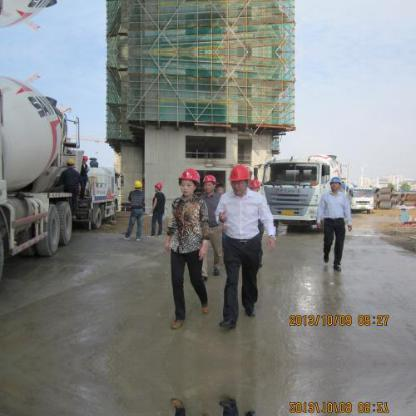helmet: (226, 161, 252, 186), (180, 166, 201, 186), (203, 167, 219, 185), (328, 176, 344, 188), (131, 178, 145, 191), (63, 156, 74, 167), (154, 178, 164, 190), (80, 149, 88, 160)
